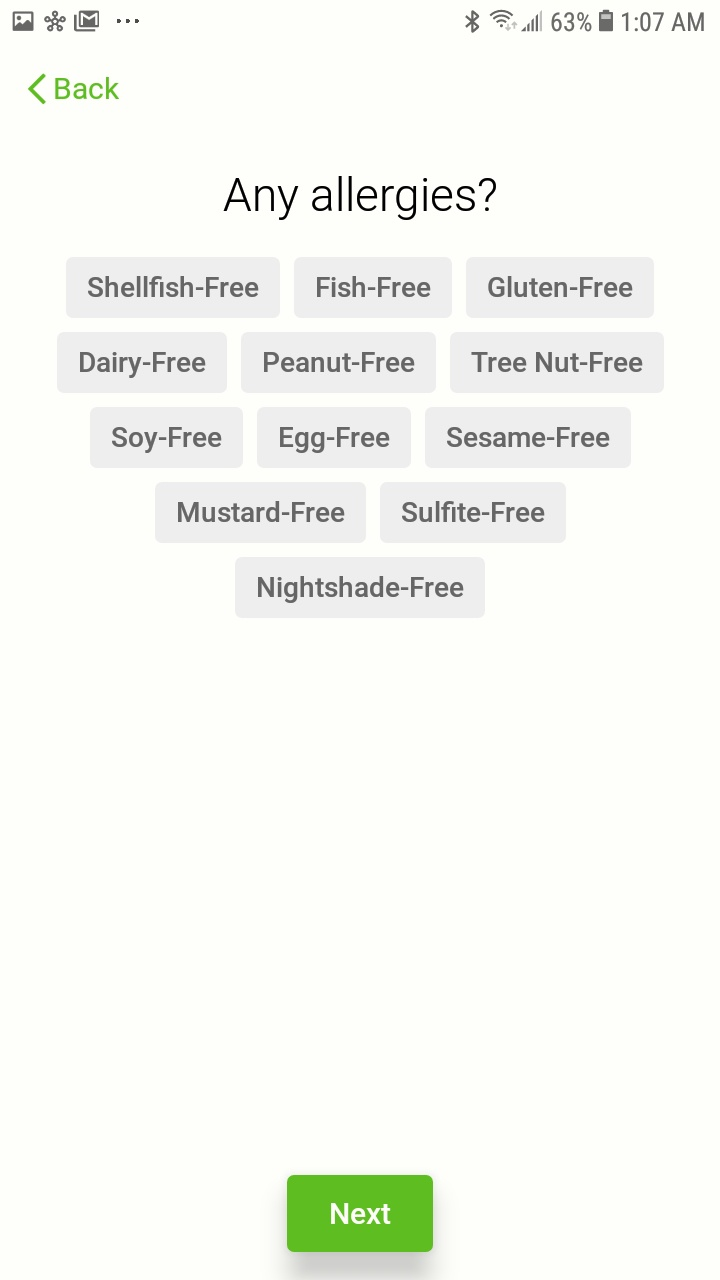Icon: (28, 73, 47, 105)
Text: (55, 77, 121, 101)
TextButton: (235, 557, 486, 619), (66, 257, 281, 319), (450, 332, 664, 394), (155, 482, 367, 544), (425, 407, 631, 469), (241, 332, 437, 394), (466, 257, 654, 319), (287, 1174, 434, 1253), (380, 482, 567, 544), (57, 332, 228, 394), (294, 257, 453, 319), (257, 407, 412, 469), (91, 407, 244, 469)
UpperTaskBar: (1, 1, 720, 35)
